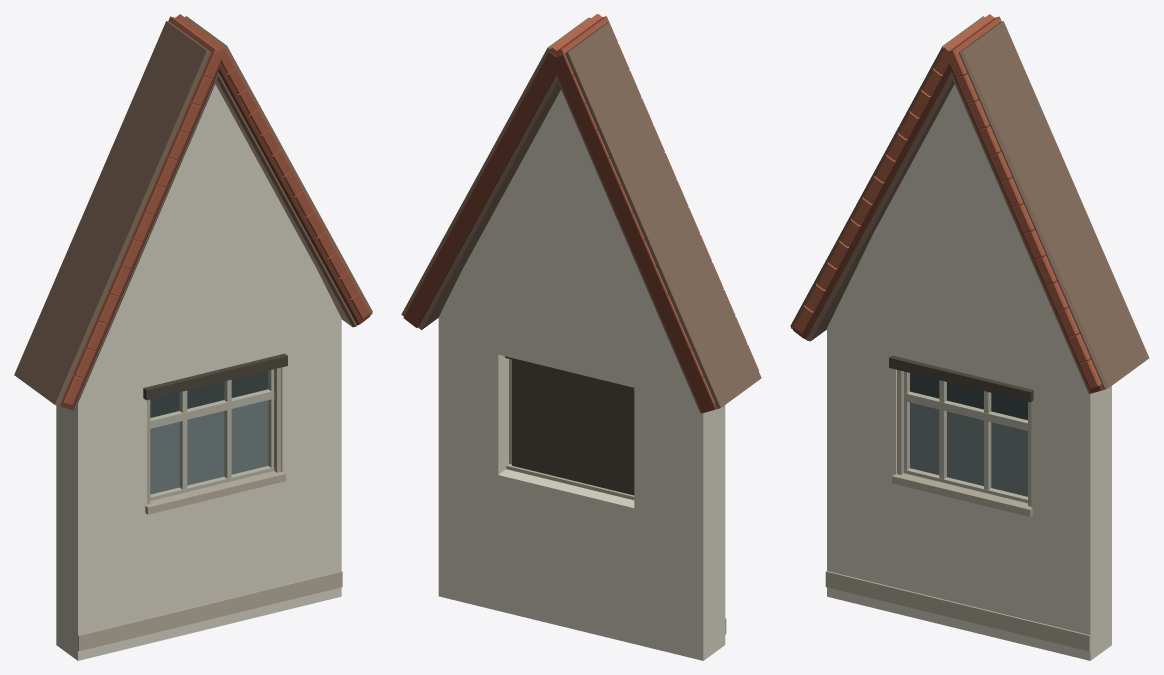
Rendered from huangpu-julu-334-courtyard-gable-window-web.glb.
The picture shows the model from 3 angles, left to right: view 1: azimuth 30°, elevation 25°; view 2: azimuth 150°, elevation 25°; view 3: azimuth 330°, elevation 25°; orthographic projection.
Visible parts, largest first — view 1: 巨鹿路334号院内尖山墙窗与双坡瓦檐; view 2: 巨鹿路334号院内尖山墙窗与双坡瓦檐; view 3: 巨鹿路334号院内尖山墙窗与双坡瓦檐.
Boxes of the visible parts, x1,y1,x2,y2 form: 巨鹿路334号院内尖山墙窗与双坡瓦檐: [14, 14, 372, 660]; 巨鹿路334号院内尖山墙窗与双坡瓦檐: [401, 14, 761, 660]; 巨鹿路334号院内尖山墙窗与双坡瓦檐: [790, 14, 1149, 660].
Size of the model in its own units: 3.23 by 5.7 by 0.816.
